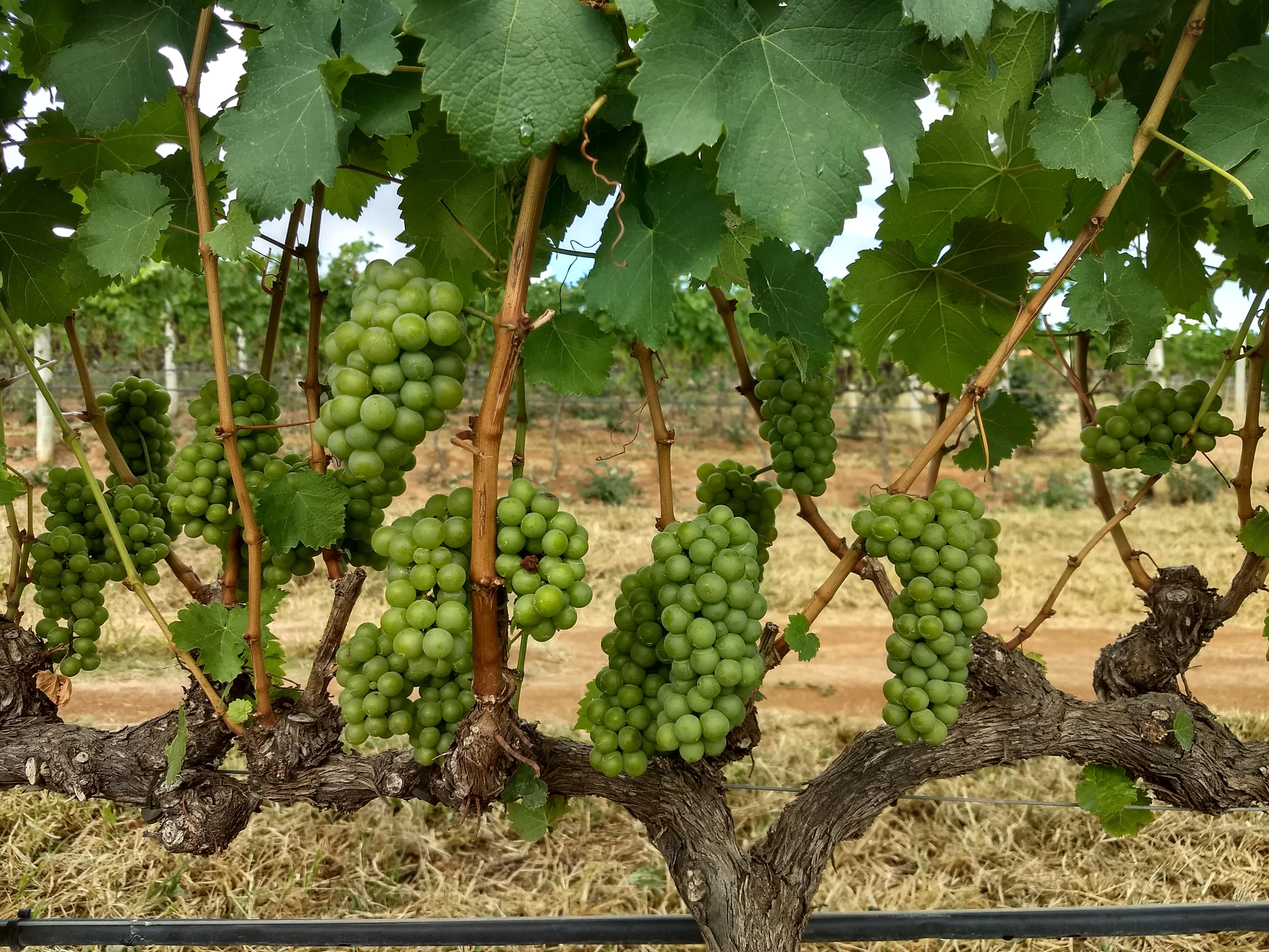leaf: (630, 0, 926, 253), (409, 0, 621, 165), (843, 219, 1038, 392), (878, 110, 1071, 259), (216, 0, 340, 220), (585, 156, 725, 348), (47, 0, 199, 131), (399, 128, 511, 287), (20, 91, 186, 190), (940, 3, 1053, 131), (0, 168, 80, 325), (1030, 74, 1138, 188), (1064, 252, 1171, 367), (746, 238, 833, 371), (77, 170, 171, 277), (1146, 190, 1210, 311), (255, 469, 348, 551), (522, 311, 613, 394), (953, 389, 1036, 470), (170, 603, 248, 682), (1076, 763, 1153, 836), (341, 72, 423, 138), (339, 0, 400, 76), (905, 0, 994, 43), (204, 199, 259, 260), (500, 764, 548, 809), (164, 706, 187, 786), (783, 613, 819, 661), (1237, 508, 1268, 557), (1135, 446, 1173, 475), (0, 471, 26, 505), (207, 18, 228, 60), (1172, 709, 1193, 751), (226, 698, 254, 723), (1006, 0, 1057, 13), (1181, 202, 1188, 205), (974, 416, 977, 421), (657, 18, 661, 21), (1098, 192, 1100, 196), (460, 284, 462, 287), (401, 166, 403, 167), (503, 258, 505, 259), (407, 163, 408, 164), (14, 114, 15, 114)
